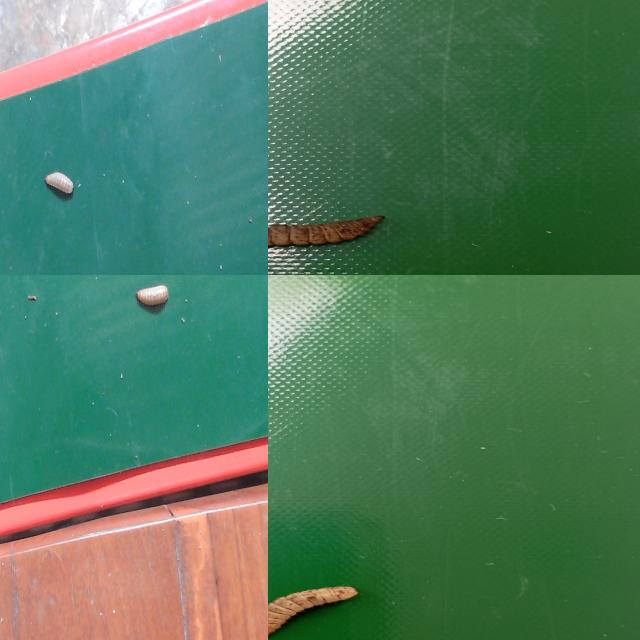Maggot: (268, 587, 358, 639), (268, 217, 386, 251), (43, 170, 77, 201), (135, 284, 170, 314)
